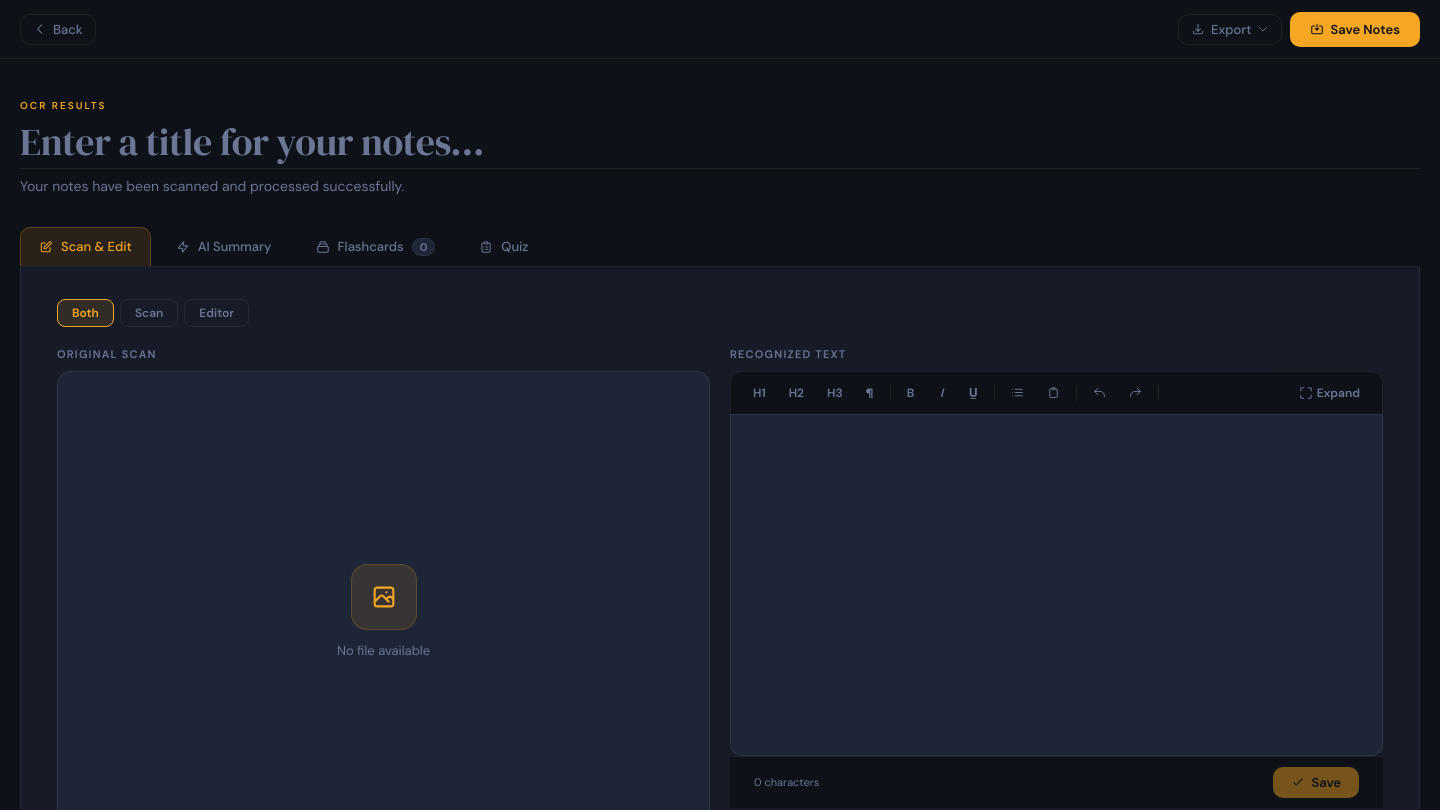
Test case: ResultsPage › Tab switching › switches to Flashcards tab
Click the button "Flashcards 0" at (375, 247), box top-left (296, 227), bottom-right (454, 267)
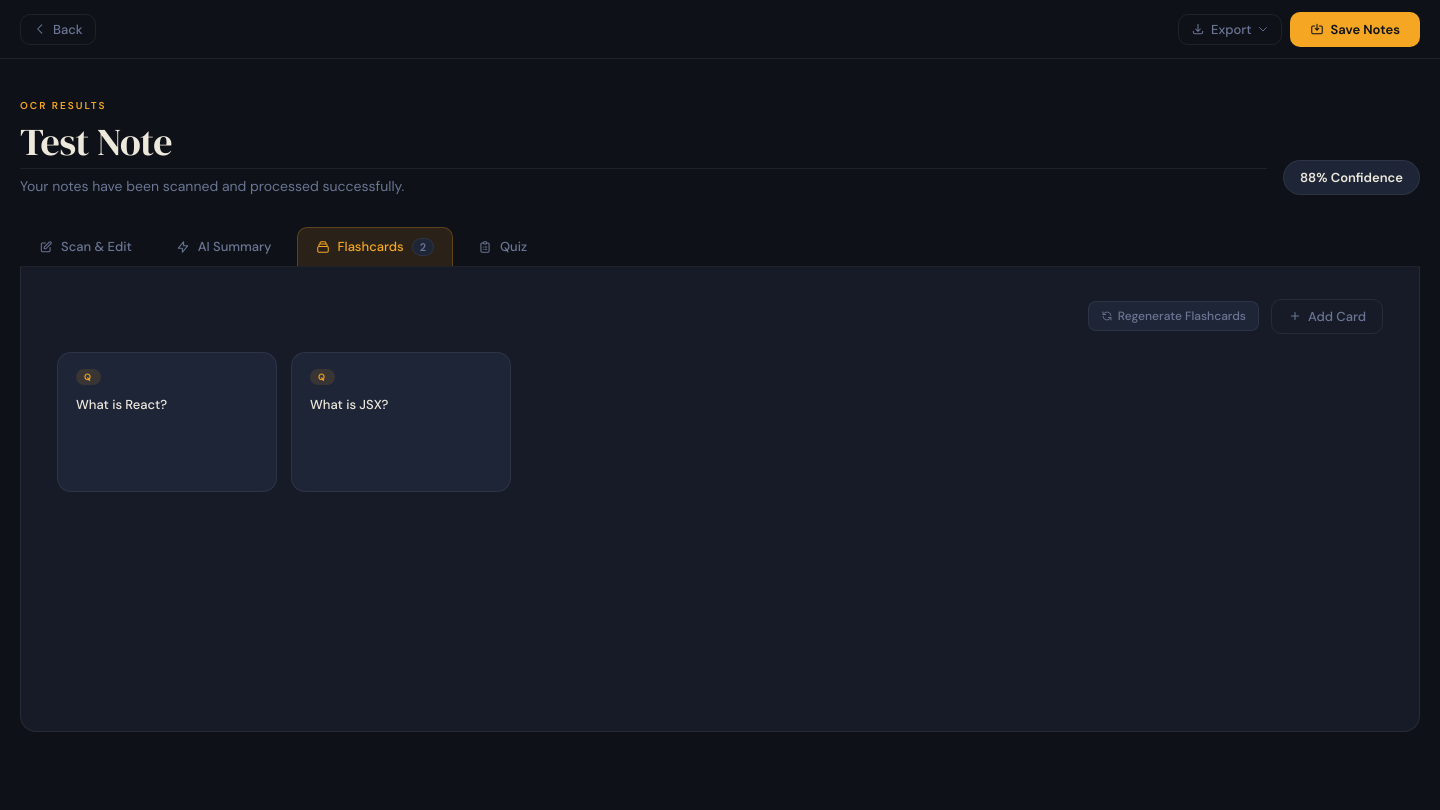
Result: the button "Add Card" is shown at top-left (1271, 299), bottom-right (1383, 334)
